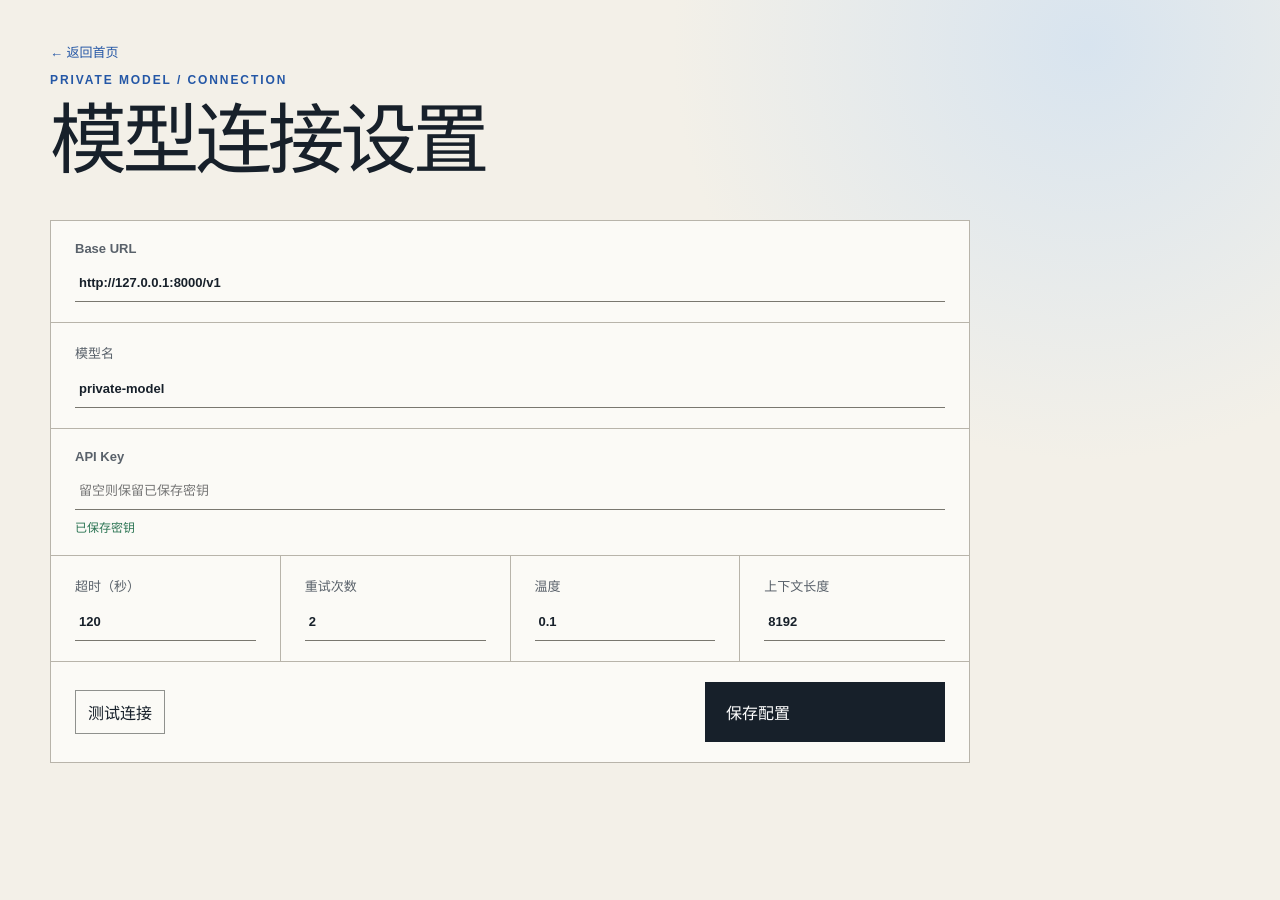
Test: SettingsPage › keeps the saved API key masked and tests the private model
This screenshot has width=1280, height=900.
Expected: the field showing "private-model" is shown, 75,370 -> 945,408
Expected: the password field labelled "API Key" is empty, 75,472 -> 945,510
Click the button "测试连接".
click(120, 712)  # box 75,690 -> 165,734
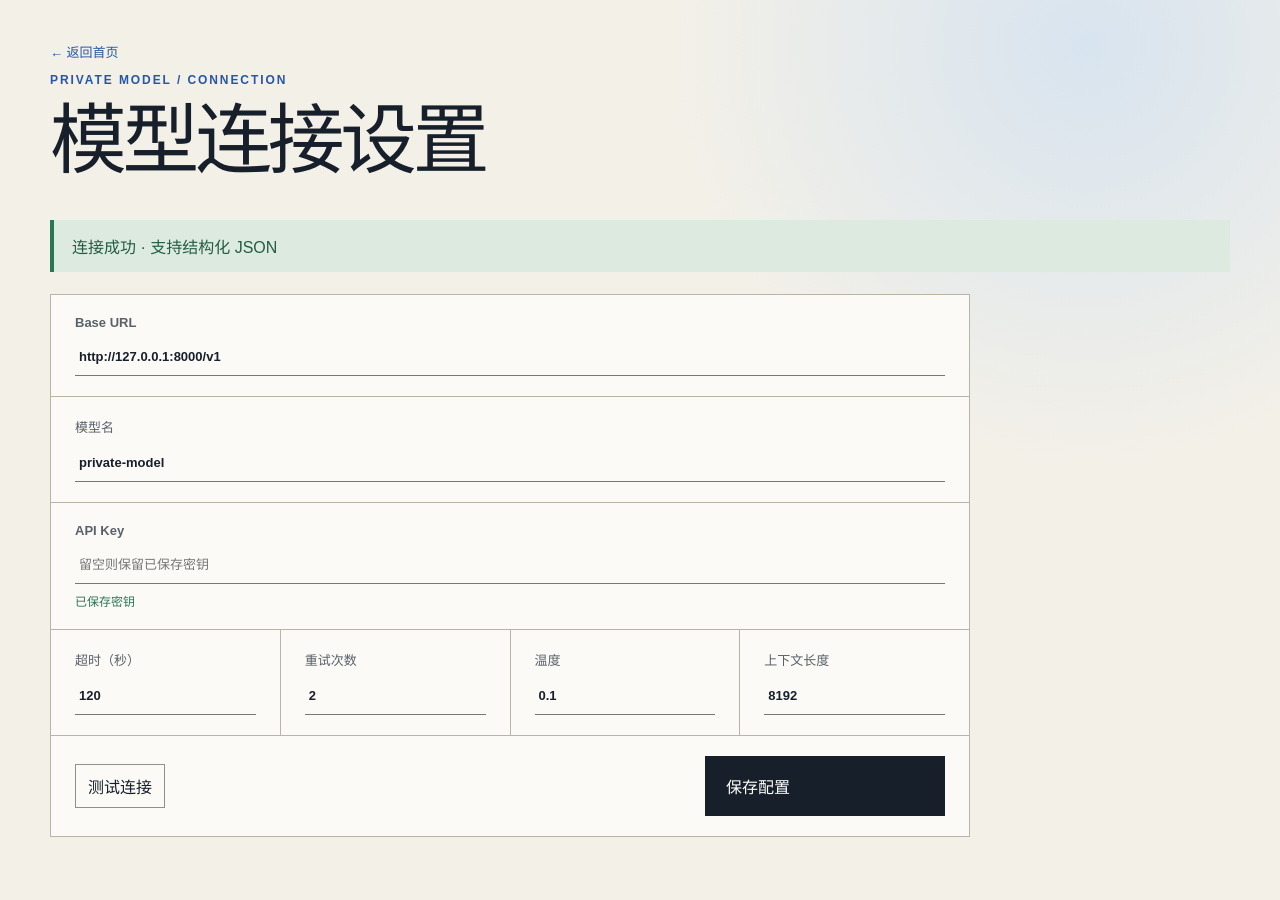
Expected: the text "连接成功 · 支持结构化 JSON" is shown, 50,220 -> 1230,272
